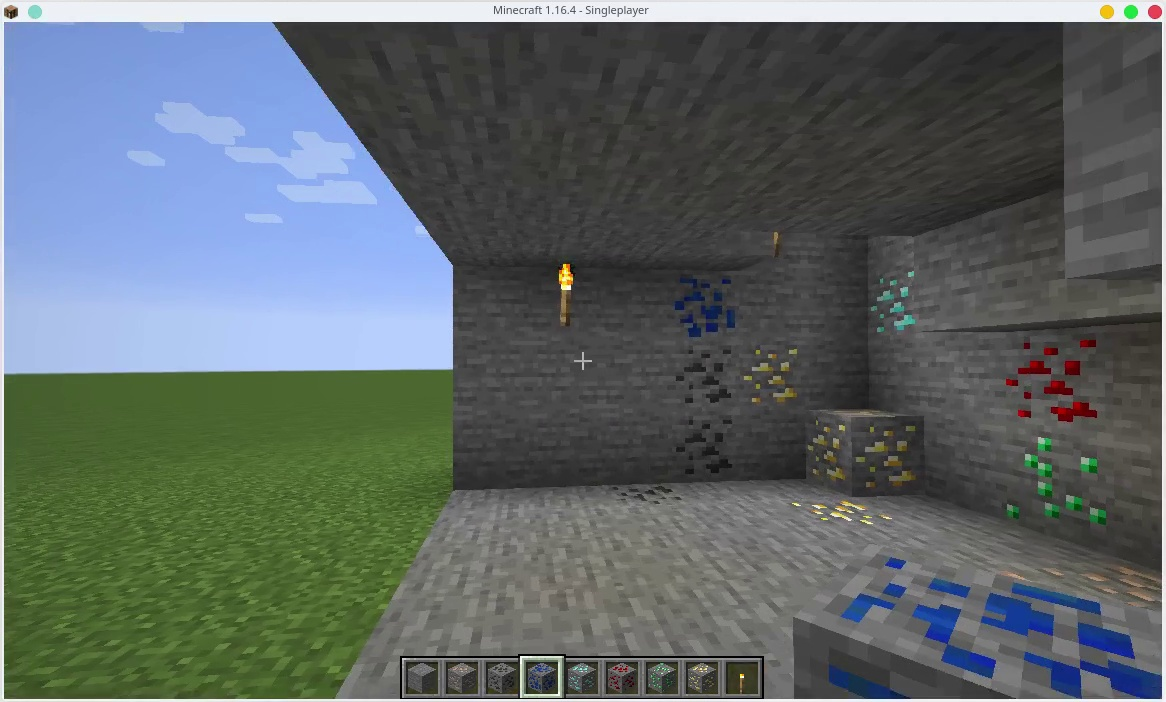gold: (803, 411, 921, 491), (783, 496, 894, 529), (740, 344, 802, 403), (684, 663, 716, 694)
